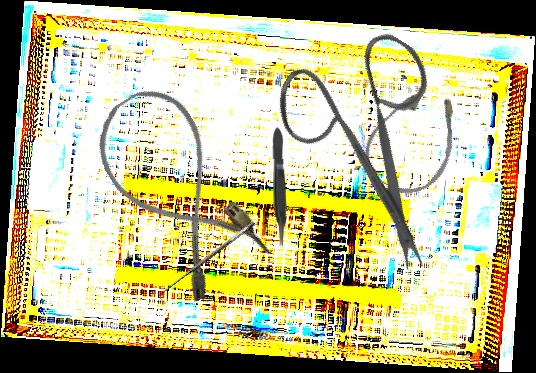Cannula: (79, 75, 276, 306), (352, 69, 479, 206)
Hook Surgical: (154, 219, 262, 306)
Iris Scissors: (234, 0, 521, 277)
Tissue Forceps: (271, 126, 289, 250)
